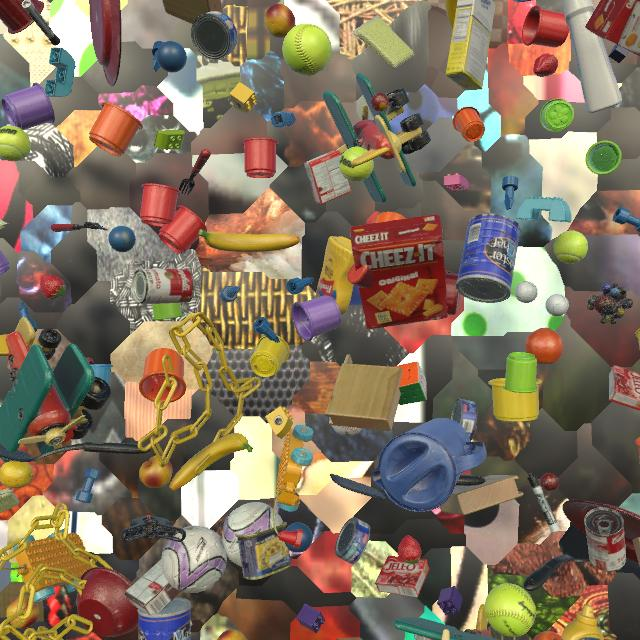ycb_002_master_chef_can: (456, 213, 521, 303), (138, 597, 191, 640)
ycb_003_cracker_box: (350, 214, 448, 330), (585, 0, 640, 57)
ycb_004_sugar_box: (445, 0, 496, 91)
ycb_005_tomato_soup_can: (584, 507, 626, 572), (131, 268, 195, 304)
ycb_006_mustard_bottle: (315, 236, 355, 315), (561, 604, 604, 640)
ycb_007_tuna_fish_can: (191, 11, 237, 61), (335, 518, 370, 564), (451, 398, 478, 441)
ycb_008_pudding_box: (124, 559, 180, 615)
ycb_009_gelatin_box: (304, 150, 352, 205), (375, 555, 430, 598), (609, 365, 640, 411), (414, 635, 433, 640)
ycb_010_potted_meat_can: (235, 522, 291, 580)
ycb_011_banana: (169, 433, 253, 491), (198, 229, 300, 252), (445, 0, 458, 29)
ycb_012_strawberry: (398, 535, 422, 564), (40, 275, 66, 299), (533, 53, 558, 77)
ycb_014_lemon: (0, 461, 34, 488)
ycb_015_peach: (6, 595, 40, 629), (139, 455, 172, 488), (265, 4, 295, 38), (217, 629, 246, 640)
ycb_017_orange: (525, 328, 564, 364), (533, 631, 563, 640)
